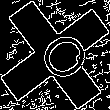O_SW: (21, 22, 89, 88)
